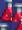potion: (0, 0, 12, 22), (12, 0, 22, 22), (0, 22, 12, 30), (12, 22, 22, 30)
